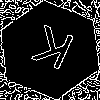K: (25, 25, 77, 80)
